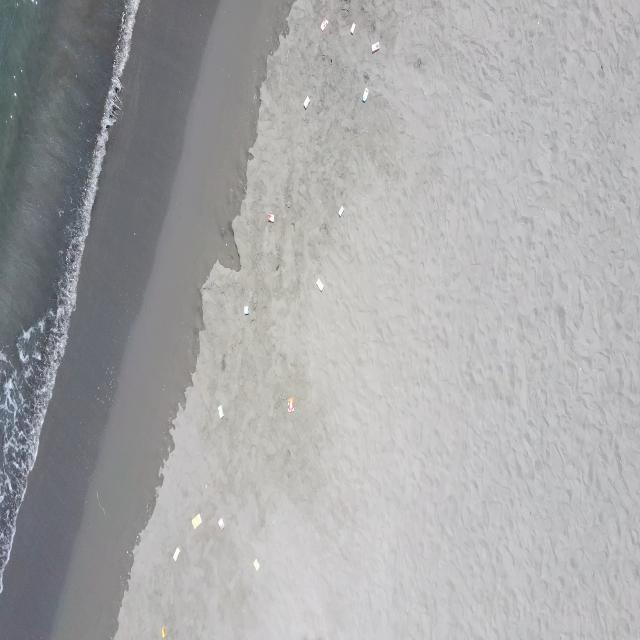Garbage: (192, 513, 200, 528), (160, 624, 167, 639), (172, 547, 180, 560), (252, 557, 259, 571), (287, 396, 293, 412), (316, 278, 323, 291), (320, 18, 327, 30), (372, 40, 379, 51), (216, 517, 223, 528), (337, 206, 344, 216), (362, 88, 367, 101), (303, 96, 308, 108), (219, 404, 223, 417), (267, 212, 272, 221), (243, 304, 247, 315), (351, 23, 355, 33)
